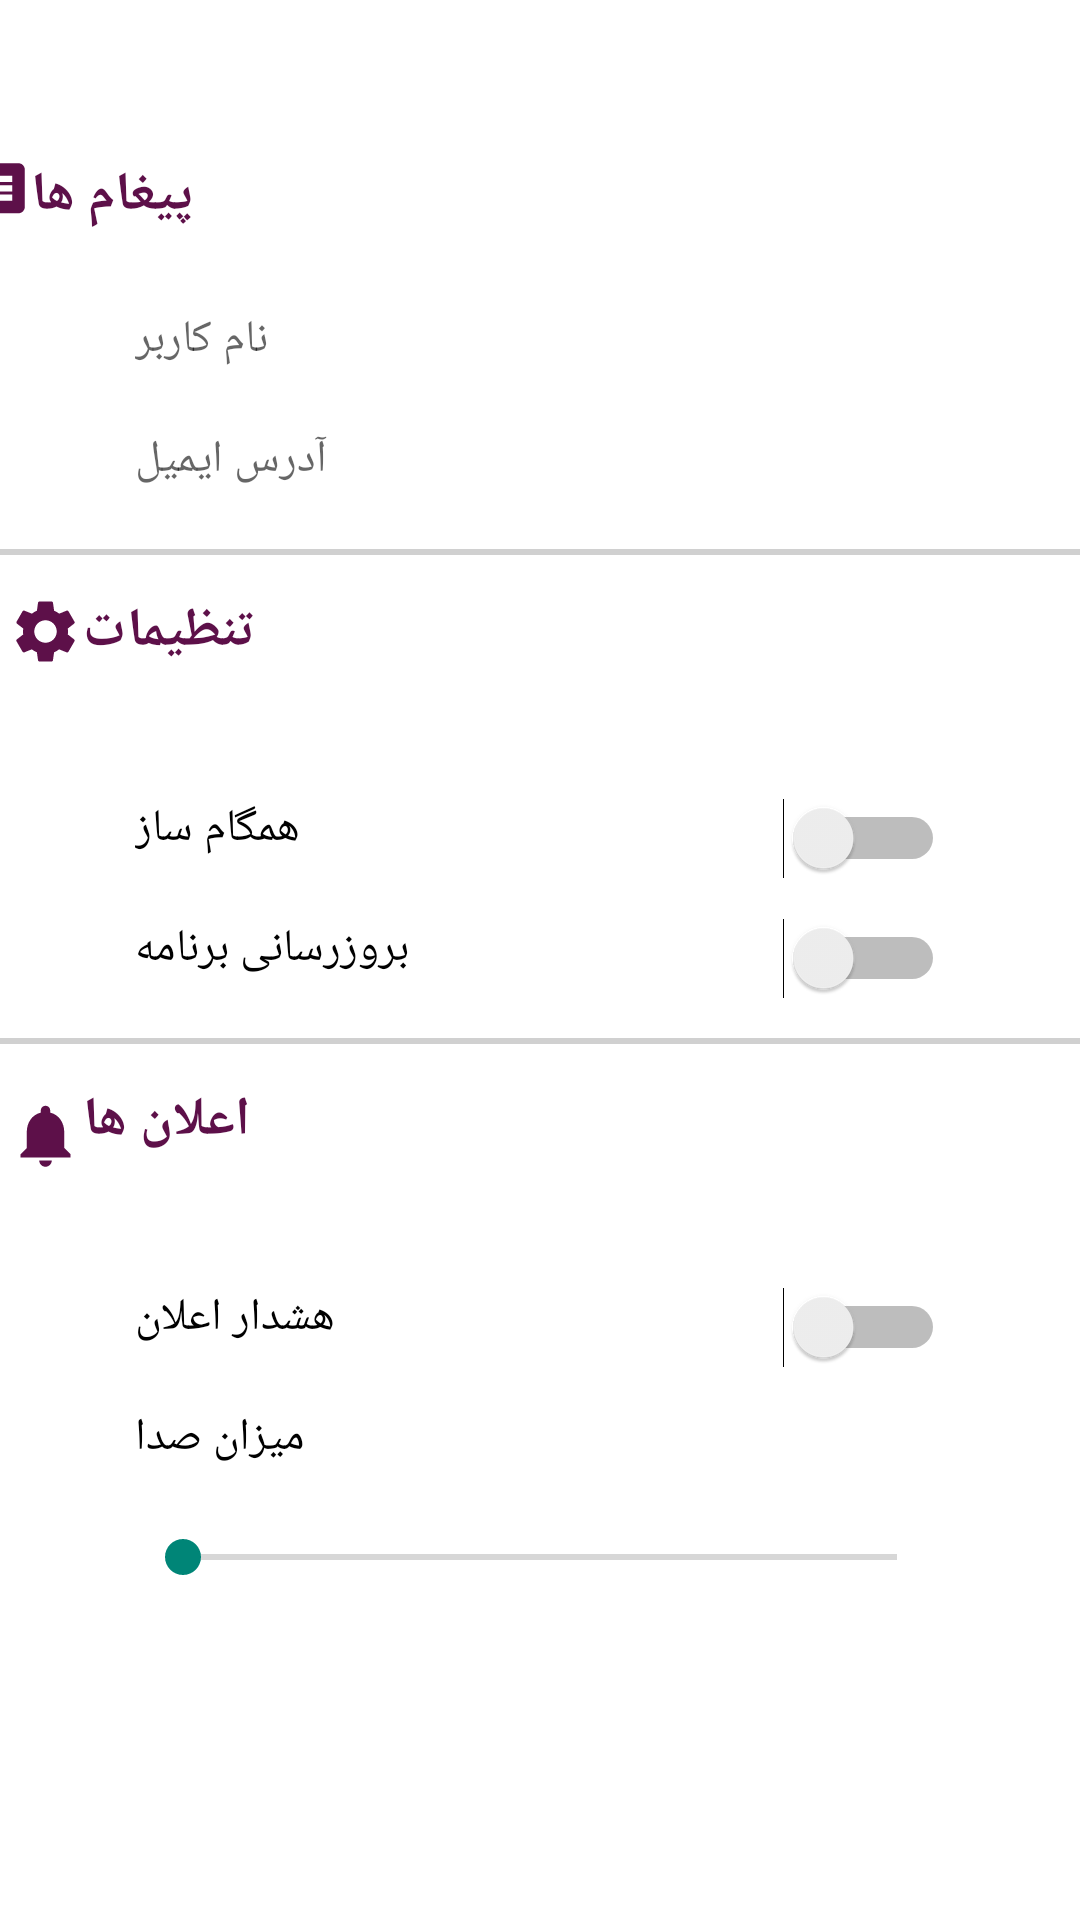

Where icons sit on this 1080×1920 app screen, as box(x1, y1, x2, y2):
notifications: box(20, 1105, 71, 1167)
setting: box(16, 601, 75, 662)
